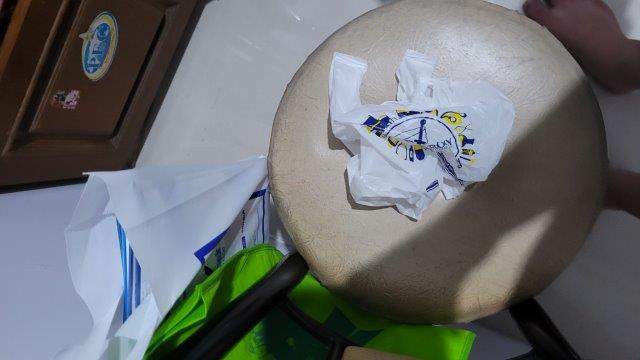plastik: (321, 50, 516, 221)
